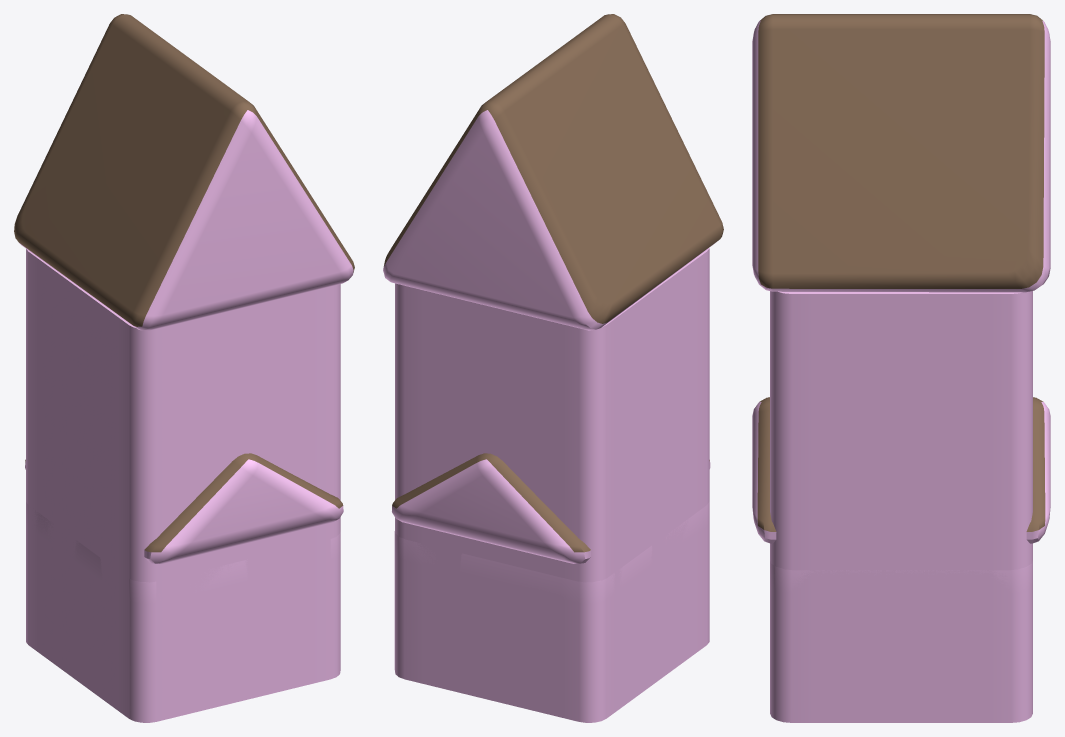
Rendered from houses.fbx.
3 renders of one model, left to right at view 1: azimuth 30°, elevation 25°; view 2: azimuth 150°, elevation 25°; view 3: azimuth 270°, elevation 25°, orthographic. The views are drawn at different scales.
Parts seen in each view (by area): view 1: tallhouse, shorthouse; view 2: tallhouse, shorthouse; view 3: tallhouse, shorthouse.
Part boxes in pixels (<box>): tallhouse: <box>14,14,354,722</box>; shorthouse: <box>25,453,343,722</box>; tallhouse: <box>383,14,723,722</box>; shorthouse: <box>392,453,710,722</box>; tallhouse: <box>752,14,1050,722</box>; shorthouse: <box>752,397,1050,722</box>.
Bounding box in the file's own units: 55.2 × 142 × 59.
